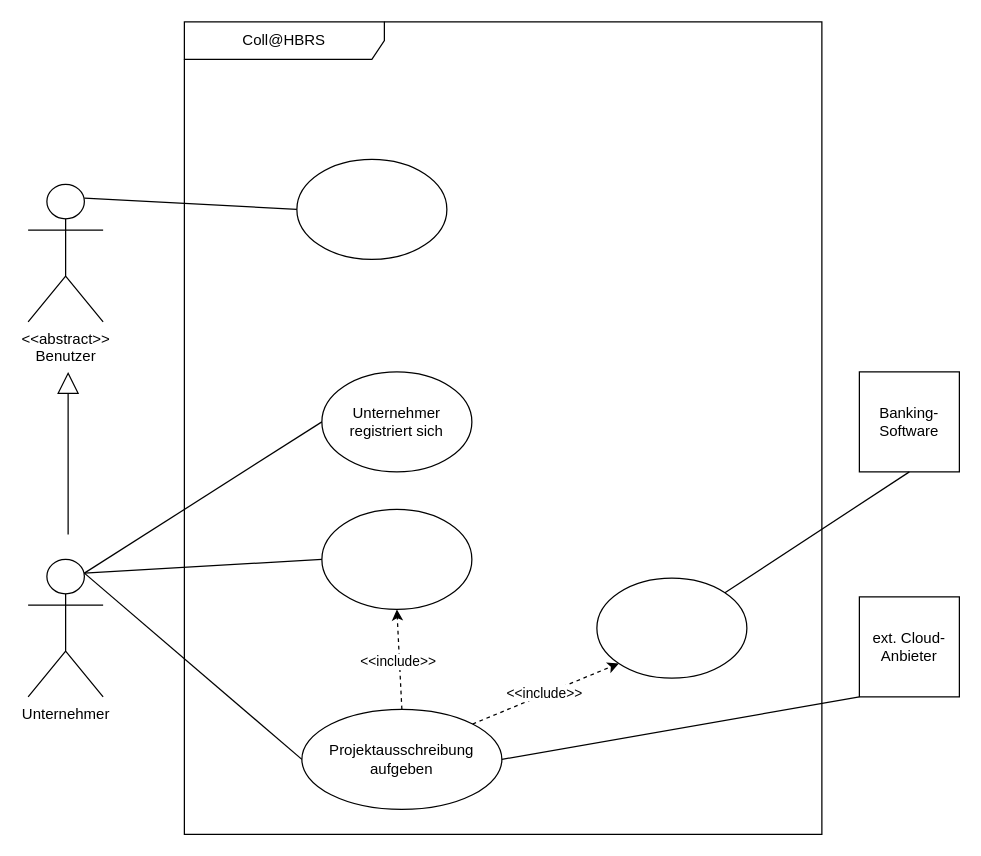
The diagram is 981 pixels wide and 856 high, and some of its shapes have lost their labels. Here are the shapes that lost their labels. From the top down, the box of each, then its label:
(296, 158, 447, 259): Benutzer authentifiziert sich
(321, 508, 472, 609): Bankverbindung verwalten
(596, 577, 747, 678): Bankeinzug durchführen
